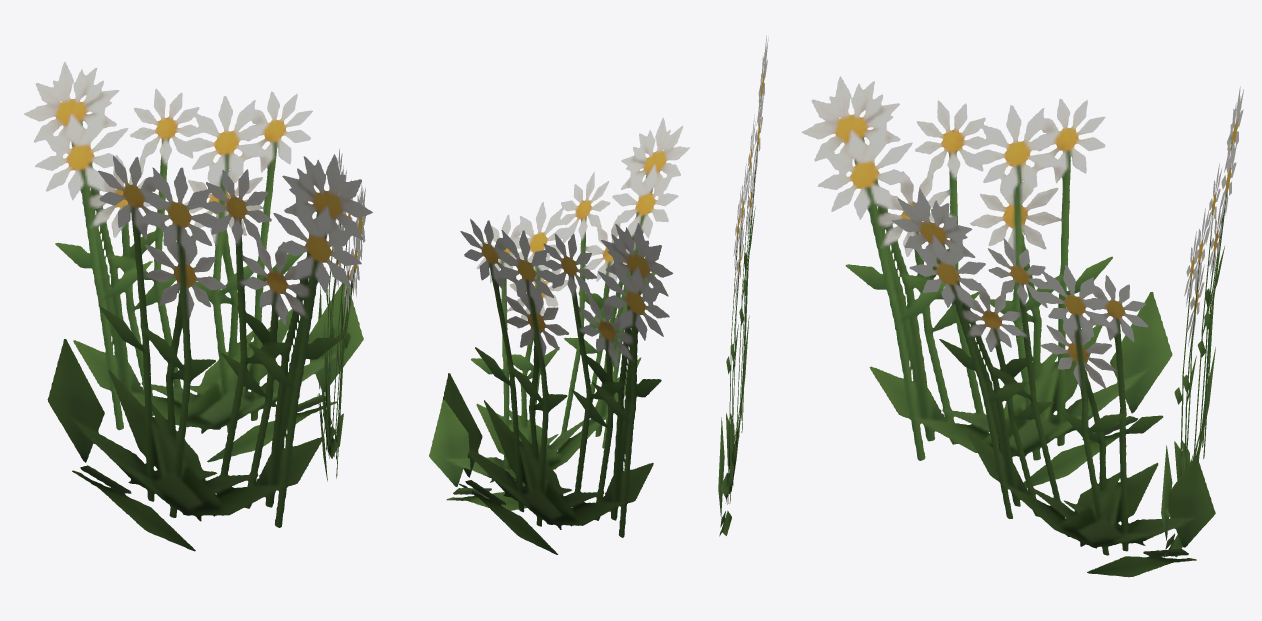
File: flowers_white.glb
The picture shows the model from 3 angles, left to right: view 1: azimuth 30°, elevation 25°; view 2: azimuth 150°, elevation 25°; view 3: azimuth 270°, elevation 25°; orthographic projection. The views are drawn at different scales.
Visible parts, largest first — view 1: flowers_white_mesh; view 2: flowers_white_mesh; view 3: flowers_white_mesh.
Boxes of the visible parts, x1,y1,x2,y2 form: flowers_white_mesh: (24, 62, 372, 551); flowers_white_mesh: (429, 35, 768, 554); flowers_white_mesh: (801, 76, 1243, 577).
Size of the model in its own units: 0.3496 by 0.4375 by 0.4035.
1 material, 1 textured.
